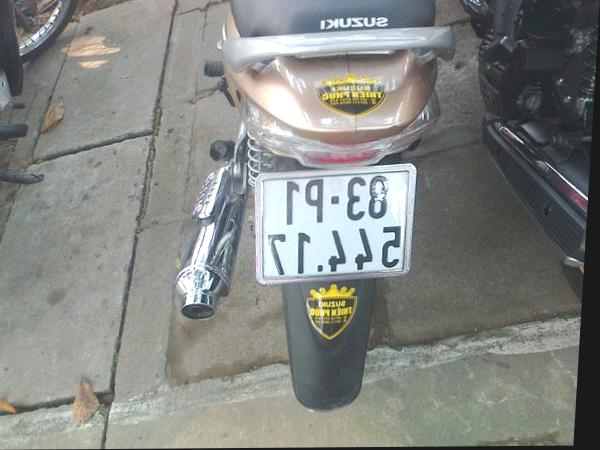License_Plate: (252, 168, 411, 278)
